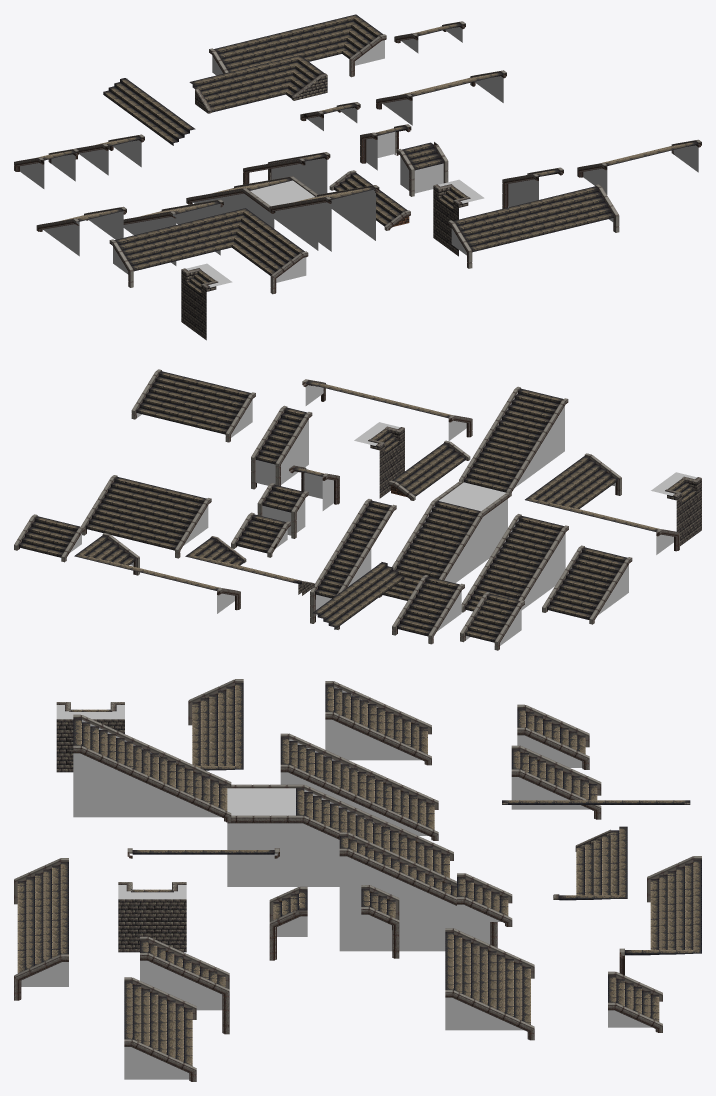
File: EnvMdrMD_Sea_A_Stairs_A_4S05W_A.FBX
The picture shows the model from 3 angles, top to bottom: view 1: azimuth 30°, elevation 25°; view 2: azimuth 150°, elevation 25°; view 3: azimuth 270°, elevation 25°; orthographic projection. The views are drawn at different scales.
Visible parts, largest first — view 1: EnvMdrMD_Sea_A_Stairs_B_A, EnvMdrMD_Sea_A_Stairs_A_34S4W, EnvMdrMD_Sea_A_Stairs_D, EnvMdrMD_Sea_A_Stairs_B, EnvMdrMD_Sea_A_Stairs_C, EnvMdrMD_Sea_A_Stairs_D_A, EnvMdrMD_Sea_A_Stairs_A_4S05W_A, EnvMdrMD_Sea_A_Stairs_C_4S2W, EnvMdrMD_Sea_A_Stairs_E, EnvMdrMD_Sea_A_Stairs_C_4S2W_EnableWalk, EnvMdrMD_Sea_A_Stairs_A_12S4W, EnvMdrMD_Sea_A_Stairs_A_18S4W (+9 smaller); view 2: EnvMdrMD_Sea_A_Stairs_A_34S4W, EnvMdrMD_Sea_A_Stairs_A_10S8W, EnvMdrMD_Sea_A_Stairs_A_18S4W, EnvMdrMD_Sea_A_Stairs_A_8S8W, EnvMdrMD_Sea_A_Stairs_A_12S4W, EnvMdrMD_Sea_A_Stairs_E, EnvMdrMD_Sea_A_Stairs_B_A, EnvMdrMD_Sea_A_Stairs_A_10S05W, EnvMdrMD_Sea_A_Stairs_A_10S4W, EnvMdrMD_Sea_A_Stairs_D_A, EnvMdrMD_Sea_A_Stairs_A_8S3W, EnvMdrMD_Sea_A_Stairs_B (+9 smaller); view 3: EnvMdrMD_Sea_A_Stairs_A_34S4W, EnvMdrMD_Sea_A_Stairs_E, EnvMdrMD_Sea_A_Stairs_A_10S8W, EnvMdrMD_Sea_A_Stairs_A_18S4W, EnvMdrMD_Sea_A_Stairs_D, EnvMdrMD_Sea_A_Stairs_A_8S8W, EnvMdrMD_Sea_A_Stairs_A_12S4W, EnvMdrMD_Sea_A_Stairs_B, EnvMdrMD_Sea_A_Stairs_A_10S05W, EnvMdrMD_Sea_A_Stairs_B_A, EnvMdrMD_Sea_A_Stairs_C_4S2W_EnableWalk, EnvMdrMD_Sea_A_Stairs_A_10S4W (+9 smaller).
Part boxes in pixels (<box>): EnvMdrMD_Sea_A_Stairs_B_A: <box>109,208,308,294</box>; EnvMdrMD_Sea_A_Stairs_A_34S4W: <box>186,176,379,251</box>; EnvMdrMD_Sea_A_Stairs_D: <box>448,184,619,268</box>; EnvMdrMD_Sea_A_Stairs_B: <box>209,14,386,77</box>; EnvMdrMD_Sea_A_Stairs_C: <box>189,55,327,113</box>; EnvMdrMD_Sea_A_Stairs_D_A: <box>103,78,195,145</box>; EnvMdrMD_Sea_A_Stairs_A_4S05W_A: <box>397,142,448,196</box>; EnvMdrMD_Sea_A_Stairs_C_4S2W: <box>181,263,232,340</box>; EnvMdrMD_Sea_A_Stairs_E: <box>243,152,330,194</box>; EnvMdrMD_Sea_A_Stairs_C_4S2W_EnableWalk: <box>433,179,484,256</box>; EnvMdrMD_Sea_A_Stairs_A_12S4W: <box>36,206,126,256</box>; EnvMdrMD_Sea_A_Stairs_A_18S4W: <box>123,199,223,265</box>; EnvMdrMD_Sea_A_Stairs_A_34S4W: <box>379,386,568,600</box>; EnvMdrMD_Sea_A_Stairs_A_10S8W: <box>81,475,211,558</box>; EnvMdrMD_Sea_A_Stairs_A_18S4W: <box>461,514,568,612</box>; EnvMdrMD_Sea_A_Stairs_A_8S8W: <box>131,369,255,442</box>; EnvMdrMD_Sea_A_Stairs_A_12S4W: <box>542,545,632,624</box>; EnvMdrMD_Sea_A_Stairs_E: <box>310,499,396,629</box>; EnvMdrMD_Sea_A_Stairs_B_A: <box>525,453,679,554</box>; EnvMdrMD_Sea_A_Stairs_A_10S05W: <box>251,405,312,489</box>; EnvMdrMD_Sea_A_Stairs_A_10S4W: <box>392,575,464,644</box>; EnvMdrMD_Sea_A_Stairs_D_A: <box>312,562,404,629</box>; EnvMdrMD_Sea_A_Stairs_A_8S3W: <box>460,592,524,650</box>; EnvMdrMD_Sea_A_Stairs_B: <box>74,533,240,613</box>; EnvMdrMD_Sea_A_Stairs_A_34S4W: <box>73,714,453,886</box>; EnvMdrMD_Sea_A_Stairs_E: <box>339,832,497,951</box>; EnvMdrMD_Sea_A_Stairs_A_10S8W: <box>445,928,534,1040</box>; EnvMdrMD_Sea_A_Stairs_A_18S4W: <box>280,733,438,840</box>; EnvMdrMD_Sea_A_Stairs_D: <box>14,858,68,1000</box>; EnvMdrMD_Sea_A_Stairs_A_8S8W: <box>124,977,196,1081</box>; EnvMdrMD_Sea_A_Stairs_A_12S4W: <box>325,681,431,765</box>; EnvMdrMD_Sea_A_Stairs_B: <box>619,856,701,975</box>; EnvMdrMD_Sea_A_Stairs_A_10S05W: <box>140,936,229,1034</box>; EnvMdrMD_Sea_A_Stairs_B_A: <box>188,679,243,770</box>; EnvMdrMD_Sea_A_Stairs_C_4S2W_EnableWalk: <box>118,882,186,952</box>; EnvMdrMD_Sea_A_Stairs_A_10S4W: <box>511,745,601,819</box>.
Bounding box in the file's own units: 4982 × 1160 × 4019.
